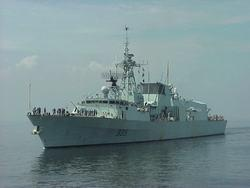warship: (23, 24, 231, 149)
